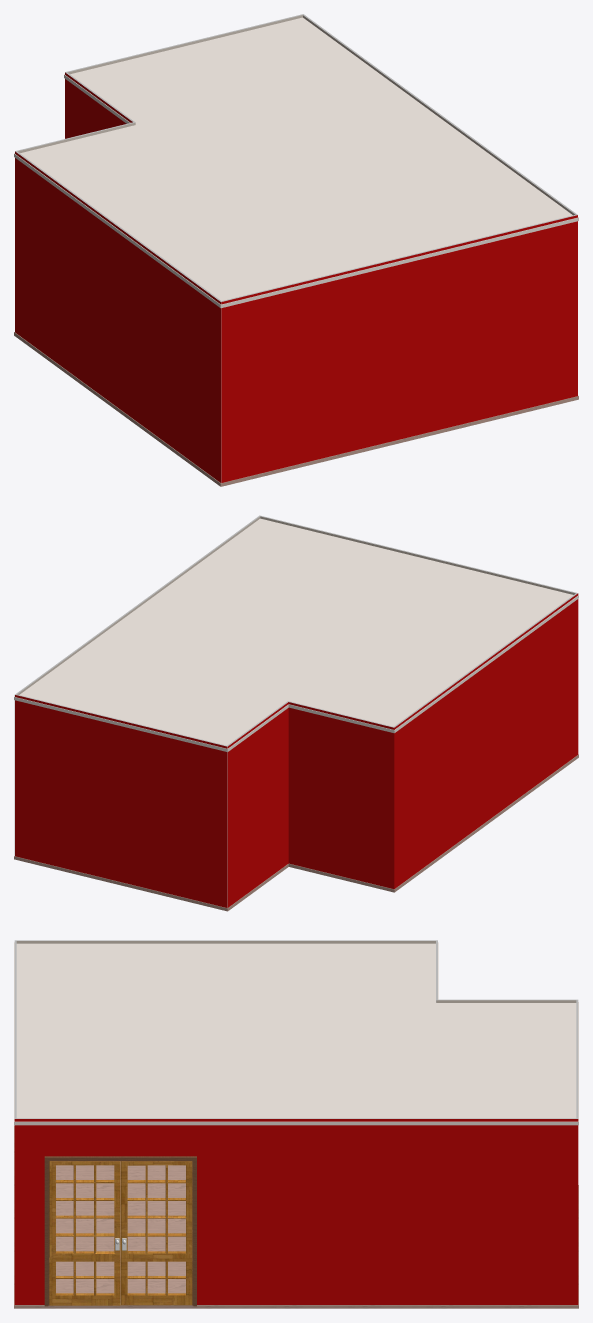
Rendered from ProcTHOR-Train-136.glb.
The picture shows the model from 3 angles, top to bottom: view 1: azimuth 30°, elevation 25°; view 2: azimuth 150°, elevation 25°; view 3: azimuth 270°, elevation 25°; orthographic projection. The views are drawn at different scales.
Visible parts, largest first — view 1: Ceiling#room|2|c, WallInside#wall|exterior|0.00|7.18|5.38|7.18, WallInside#wall|exterior|5.38|1.79|5.38|7.18, Floor#room|2|f, WallInside#wall|exterior|3.59|0.00|3.59|1.79, WallInside#wall|2|0.00|0.00|0.00|7.18, WallInside#wall|2|0.00|0.00|3.59|0.00; view 2: Ceiling#room|2|c, WallInside#wall|exterior|0.00|0.00|3.59|0.00, WallInside#wall|exterior|5.38|1.79|5.38|7.18, WallInside#wall|exterior|3.59|1.79|5.38|1.79, WallInside#wall|exterior|3.59|0.00|3.59|1.79, Floor#room|2|f, WallInside#wall|2|0.00|7.18|5.38|7.18, WallInside#wall|2|0.00|0.00|0.00|7.18; view 3: Ceiling#room|2|c, WallInside#wall|exterior|0.00|0.00|0.00|7.18, Floor#room|2|f, Doorway_Door_5a, Doorway_Door_5b, Doorway_Double_5, WallInside#wall|2|5.38|1.79|5.38|7.18, WallInside#wall|2|0.00|0.00|0.00|7.18.
Part boxes in pixels (<box>): Ceiling#room|2|c: <box>14,17,578,308</box>; WallInside#wall|exterior|0.00|7.18|5.38|7.18: <box>221,214,577,482</box>; WallInside#wall|exterior|5.38|1.79|5.38|7.18: <box>15,151,221,482</box>; Floor#room|2|f: <box>14,332,578,486</box>; WallInside#wall|exterior|3.59|0.00|3.59|1.79: <box>65,72,134,138</box>; WallInside#wall|2|0.00|0.00|0.00|7.18: <box>302,14,576,215</box>; WallInside#wall|2|0.00|0.00|3.59|0.00: <box>66,14,303,74</box>; Ceiling#room|2|c: <box>14,518,578,752</box>; WallInside#wall|exterior|0.00|0.00|3.59|0.00: <box>15,695,227,907</box>; WallInside#wall|exterior|5.38|1.79|5.38|7.18: <box>394,593,578,888</box>; WallInside#wall|exterior|3.59|1.79|5.38|1.79: <box>288,702,394,888</box>; WallInside#wall|exterior|3.59|0.00|3.59|1.79: <box>227,701,288,907</box>; Floor#room|2|f: <box>14,754,578,911</box>; WallInside#wall|2|0.00|7.18|5.38|7.18: <box>259,516,576,594</box>; WallInside#wall|2|0.00|0.00|0.00|7.18: <box>16,515,260,694</box>; Ceiling#room|2|c: <box>14,942,578,1125</box>; WallInside#wall|exterior|0.00|0.00|0.00|7.18: <box>14,1118,578,1304</box>; Floor#room|2|f: <box>14,1125,578,1308</box>; Doorway_Door_5a: <box>121,1161,192,1305</box>; Doorway_Door_5b: <box>49,1161,120,1305</box>; Doorway_Double_5: <box>44,1156,196,1306</box>; WallInside#wall|2|5.38|1.79|5.38|7.18: <box>15,940,436,943</box>; WallInside#wall|2|0.00|0.00|0.00|7.18: <box>15,1118,577,1118</box>.
Size of what is drawn, in the model's own units: 5.48 by 2.67 by 7.22.
Materials: 87 (30 with a texture image).
